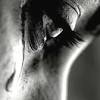Sad: (2, 1, 100, 96)
